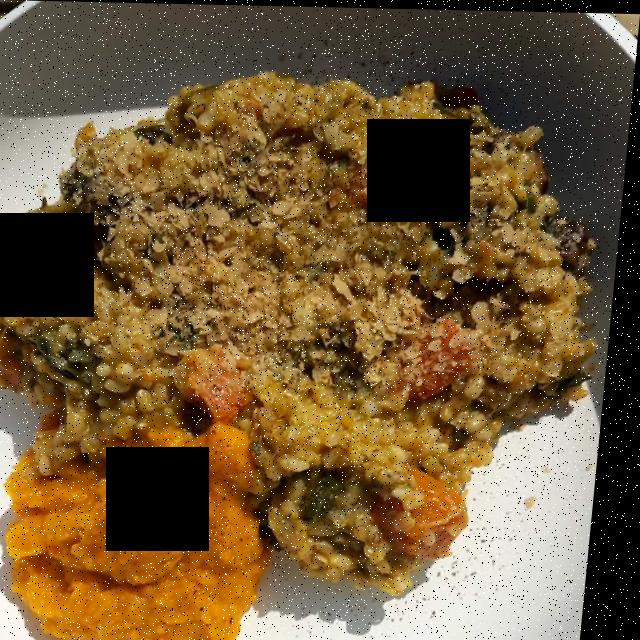mixed-vegetables: (117, 87, 590, 555)
pumpkin: (5, 424, 273, 640)
risotto-without-cheese-cooked: (19, 83, 574, 589)
